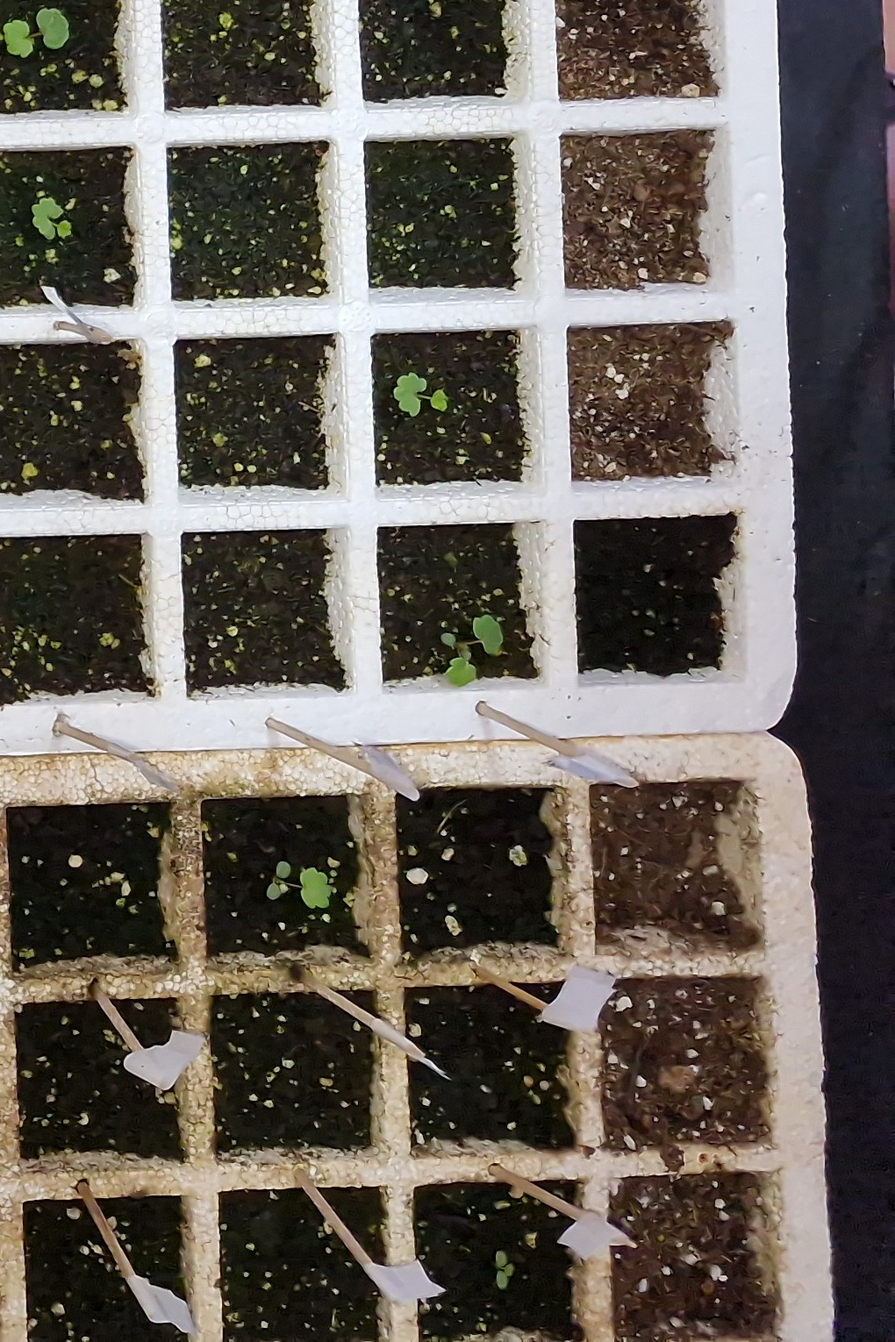Folha: (394, 372, 426, 416), (37, 9, 68, 50), (3, 20, 34, 58), (33, 197, 63, 236), (473, 615, 503, 654), (445, 657, 476, 687), (431, 389, 448, 412), (57, 220, 71, 239), (440, 633, 456, 646)
Germinacao: (441, 616, 503, 687), (3, 9, 68, 57), (394, 373, 447, 417), (33, 199, 72, 240)
